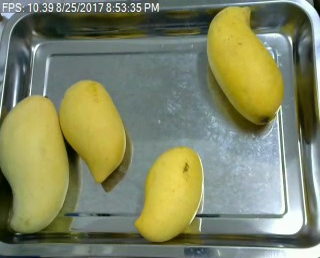Mango: (201, 5, 285, 126), (0, 96, 71, 233), (59, 79, 129, 183), (134, 147, 206, 242)
